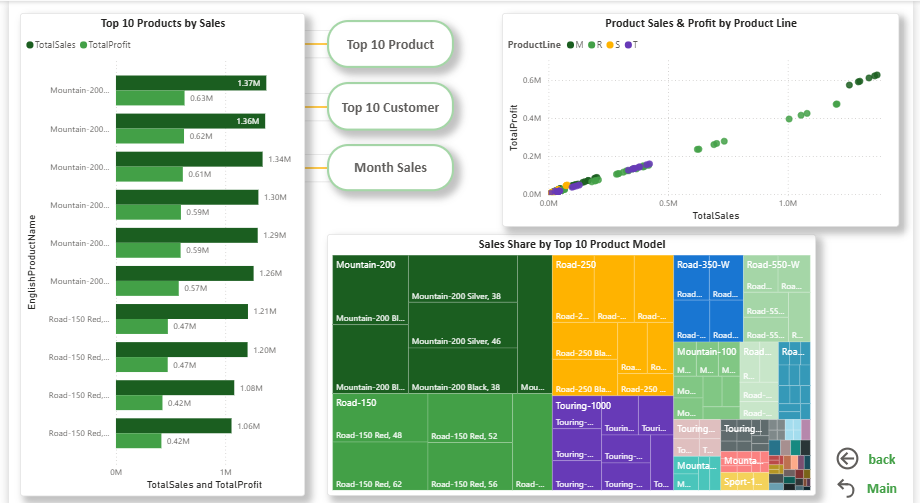

What the dashboard file says about the page in this screenshot:
{"tool":"powerbi","page":{"name":"Top 10","canvas":[1280,720],"ordinal":1},"visuals":[{"type":"actionButton","box":[1168.5,627.7,43.9,41.1],"z":0},{"type":"actionButton","box":[1168.5,668.8,36.9,42.5],"z":1000},{"type":"actionButton","box":[1206.7,629.1,62.4,39.7],"z":2000},{"type":"actionButton","box":[1201.1,668.8,73.7,42.5],"z":3000},{"type":"shape","box":[412.4,216.9,52.4,39.7],"z":4000},{"type":"actionButton","box":[450.7,202.7,180,66.6],"z":5000},{"type":"shape","box":[412.4,130.4,52.4,39.7],"z":6000},{"type":"actionButton","box":[450.7,114.8,180,69.4],"z":7000},{"type":"shape","box":[412.4,41.1,52.4,39.7],"z":8000},{"type":"actionButton","box":[450.7,26.9,180,68],"z":9000},{"type":"clusteredBarChart","title":"Top 10 Products by Sales","fields":{"Category":["DimProduct.EnglishProductName"],"Y":["Table.TotalSales","Table.TotalProfit"]},"box":[15.6,17,403.9,684.6],"z":12000},{"type":"treemap","title":"Sales Share by Top 10 Product Model","fields":{"Values":["All-Measures.TotalSales"],"Details":["DimProduct.EnglishProductName"],"Group":["DimProduct.ModelName"]},"box":[450.7,330.2,693.1,371.3],"z":13000},{"type":"scatterChart","title":"Product Sales & Profit by Product Line","fields":{"X":["All-Measures.TotalSales"],"Category":["DimProduct.EnglishProductName"],"Y":["All-Measures.TotalProfit"],"Series":["DimProduct.ProductLine"]},"box":[698.7,17,562.7,303.3],"z":14000}]}

Visuals, with their boxes in screenshot pixels (x1, y1, x2, y2), scaled from the page's 1280x720 canvas onto the 920x503 screenshot:
actionButton: {"x1": 840, "y1": 439, "x2": 871, "y2": 467}
actionButton: {"x1": 840, "y1": 467, "x2": 866, "y2": 497}
actionButton: {"x1": 867, "y1": 439, "x2": 912, "y2": 467}
actionButton: {"x1": 863, "y1": 467, "x2": 916, "y2": 497}
shape: {"x1": 296, "y1": 152, "x2": 334, "y2": 179}
actionButton: {"x1": 324, "y1": 142, "x2": 453, "y2": 188}
shape: {"x1": 296, "y1": 91, "x2": 334, "y2": 119}
actionButton: {"x1": 324, "y1": 80, "x2": 453, "y2": 129}
shape: {"x1": 296, "y1": 29, "x2": 334, "y2": 56}
actionButton: {"x1": 324, "y1": 19, "x2": 453, "y2": 66}
"Top 10 Products by Sales" clusteredBarChart: {"x1": 11, "y1": 12, "x2": 302, "y2": 490}
"Sales Share by Top 10 Product Model" treemap: {"x1": 324, "y1": 231, "x2": 822, "y2": 490}
"Product Sales & Profit by Product Line" scatterChart: {"x1": 502, "y1": 12, "x2": 907, "y2": 224}
